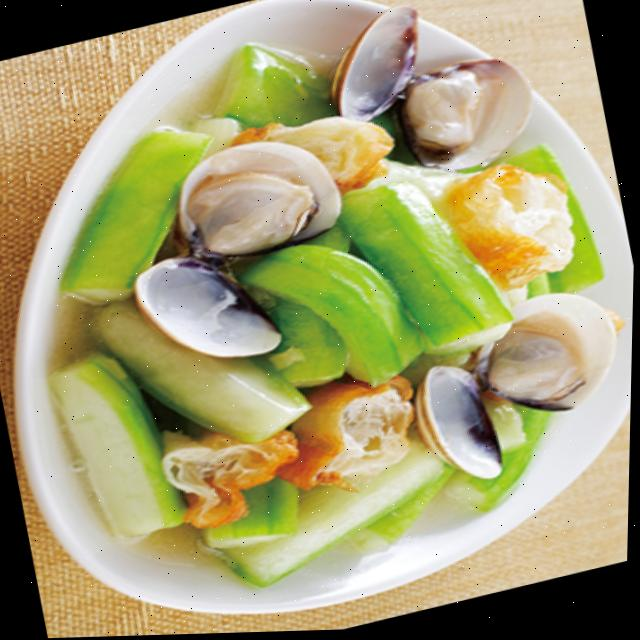Wet: (0, 0, 640, 619)
